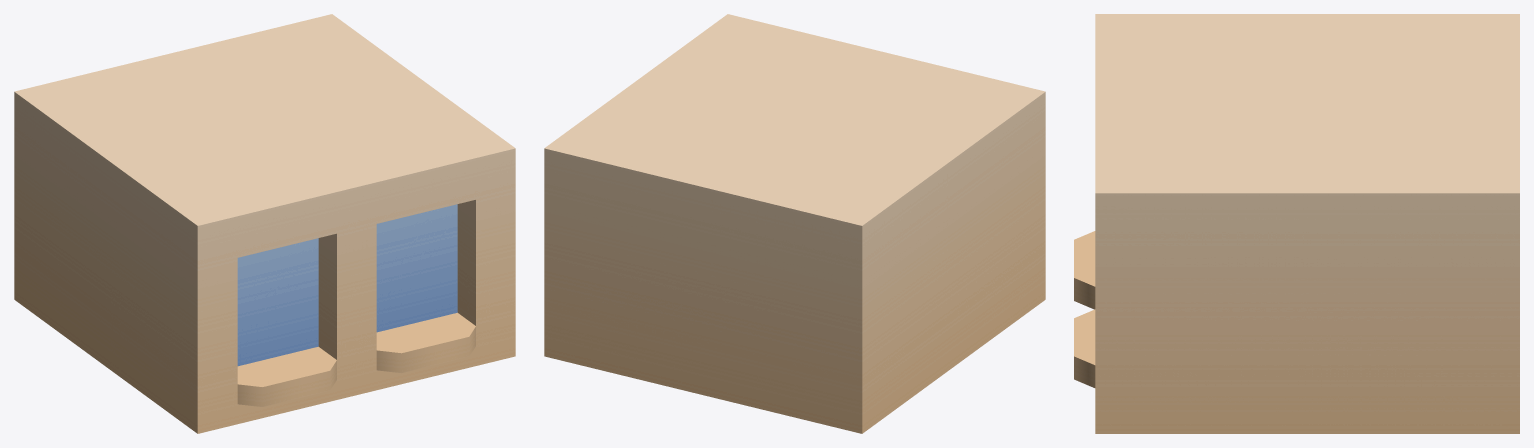
3 views of the same model, side by side, from view 1: azimuth 30°, elevation 25°; view 2: azimuth 150°, elevation 25°; view 3: azimuth 270°, elevation 25° (orthographic). The views are drawn at different scales.
Visible parts, largest first — view 1: building-windows-sills; view 2: building-windows-sills; view 3: building-windows-sills.
Part boxes in pixels (x1=…): building-windows-sills: x1=14, y1=14, x2=515, y2=433; building-windows-sills: x1=544, y1=14, x2=1045, y2=433; building-windows-sills: x1=1074, y1=14, x2=1519, y2=433.
Size of the model in its own units: 1 by 0.625 by 1.05.
Materials: 1 (1 with a texture image).
